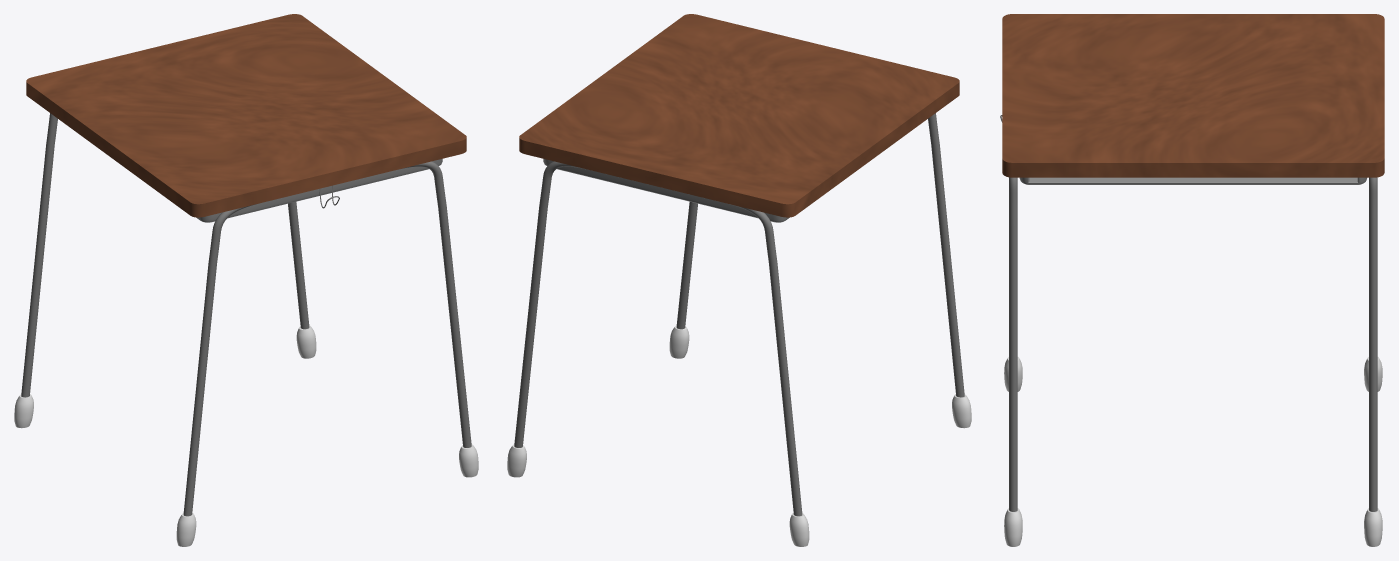
Rendered from mesa 1.fbx.
The picture shows the model from 3 angles, left to right: view 1: azimuth 30°, elevation 25°; view 2: azimuth 150°, elevation 25°; view 3: azimuth 270°, elevation 25°; orthographic projection. The views are drawn at different scales.
Parts seen in each view (by area): view 1: mesa_LOD0; view 2: mesa_LOD0; view 3: mesa_LOD0.
Boxes of the visible parts, <box> form: mesa_LOD0: <box>14,14,478,546</box>; mesa_LOD0: <box>507,14,971,546</box>; mesa_LOD0: <box>1000,14,1384,546</box>.
Size of what is drawn, in the model's own units: 70 by 76 by 70.
Materials: 4 (1 with a texture image).
